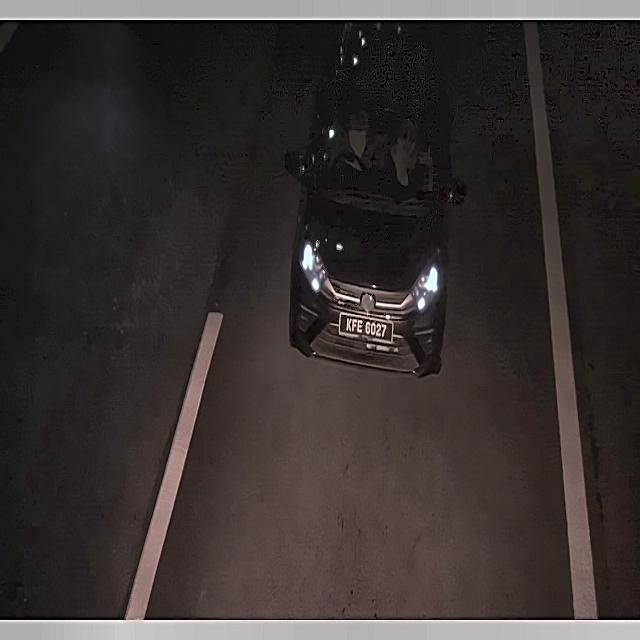car: (331, 299, 400, 353)
